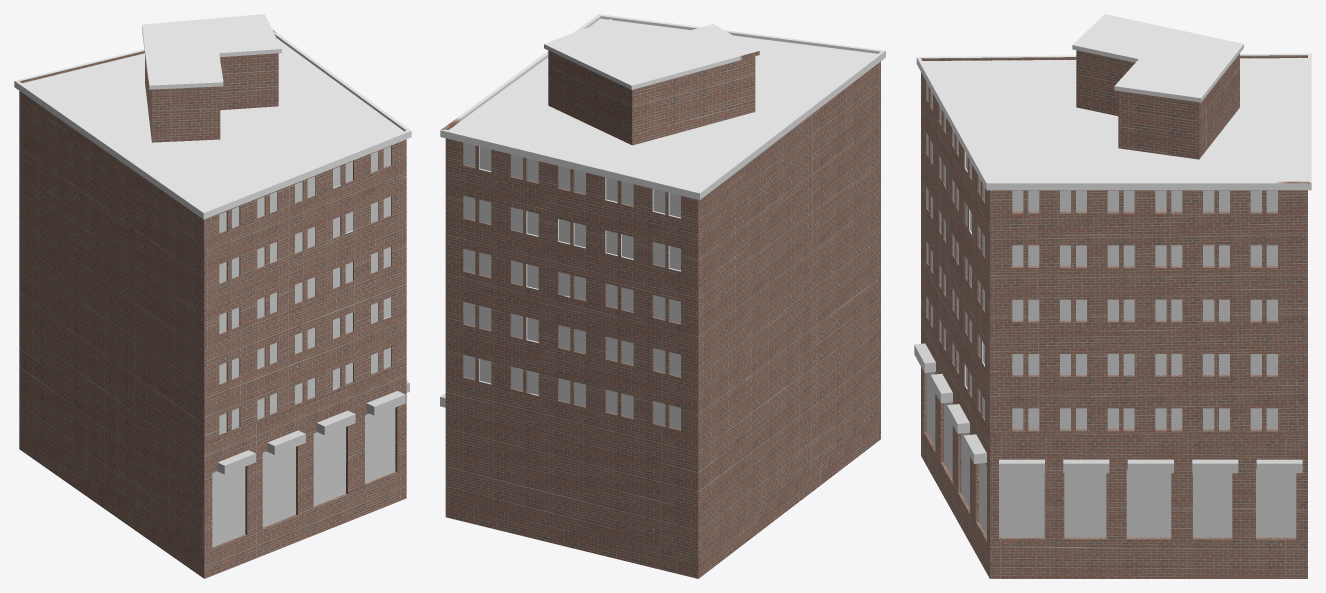
File: building4.fbx
3 renders of one model, left to right at view 1: azimuth 30°, elevation 25°; view 2: azimuth 150°, elevation 25°; view 3: azimuth 270°, elevation 25°, orthographic. The views are drawn at different scales.
Visible parts, largest first — view 1: Kubus.021, Kubus.076, Kubus.011; view 2: Kubus.021, Kubus.076; view 3: Kubus.021, Kubus.076, Kubus.010, Kubus.011.
Part boxes in pixels (box(x1,y1,x2,y2)): Kubus.021: box(14, 14, 411, 578); Kubus.076: box(212, 146, 395, 547); Kubus.011: box(217, 391, 405, 474); Kubus.021: box(440, 14, 885, 578); Kubus.076: box(464, 143, 680, 429); Kubus.021: box(916, 14, 1311, 578); Kubus.076: box(926, 83, 1296, 537); Kubus.010: box(999, 459, 1302, 473); Kubus.011: box(914, 343, 986, 463).
Bounding box in the file's own units: 3309 × 5342 × 4207.
